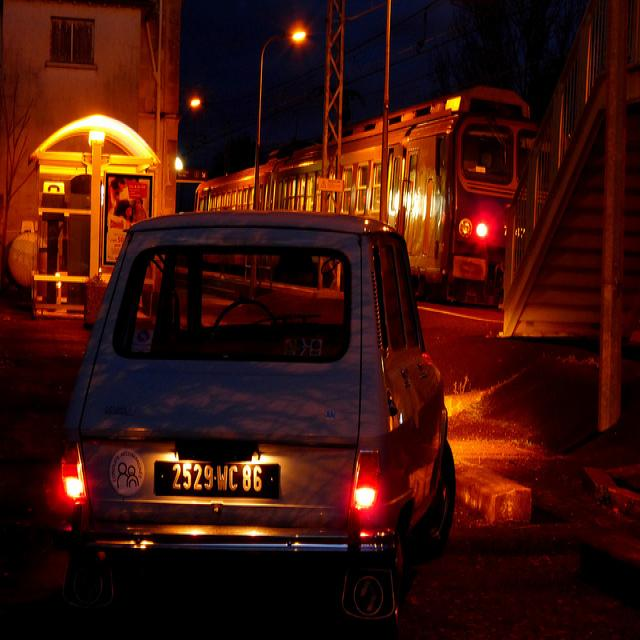Car: (55, 185, 444, 632)
